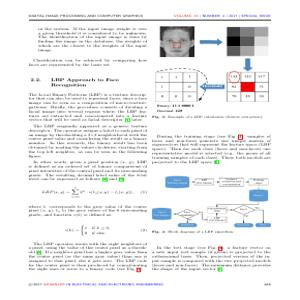diagram: (155, 24, 275, 114), (150, 171, 276, 236)
text: (23, 23, 149, 275), (150, 131, 275, 166), (152, 239, 274, 273)
